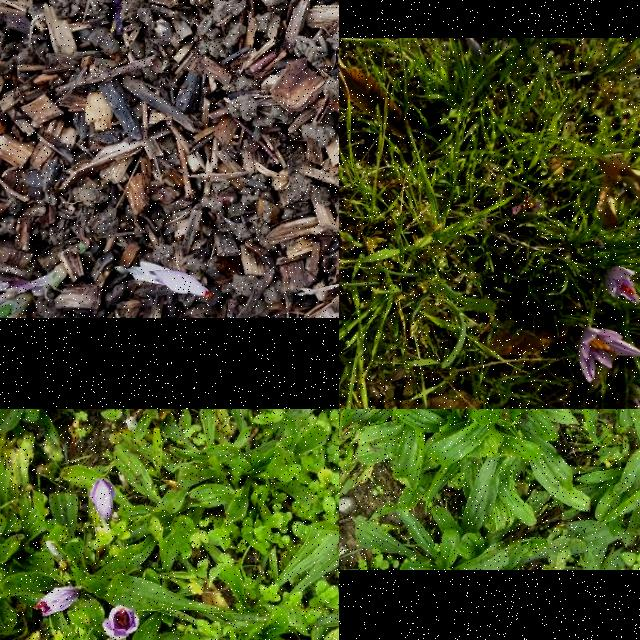flower: (579, 328, 640, 383), (152, 270, 214, 300), (34, 587, 80, 617), (102, 606, 140, 640), (607, 267, 640, 304), (92, 478, 116, 522)
